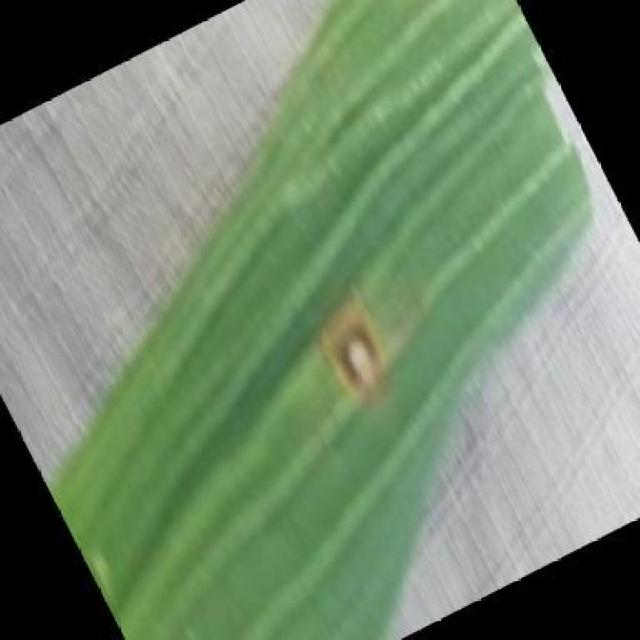Leaf_Blast: (294, 296, 418, 426)
